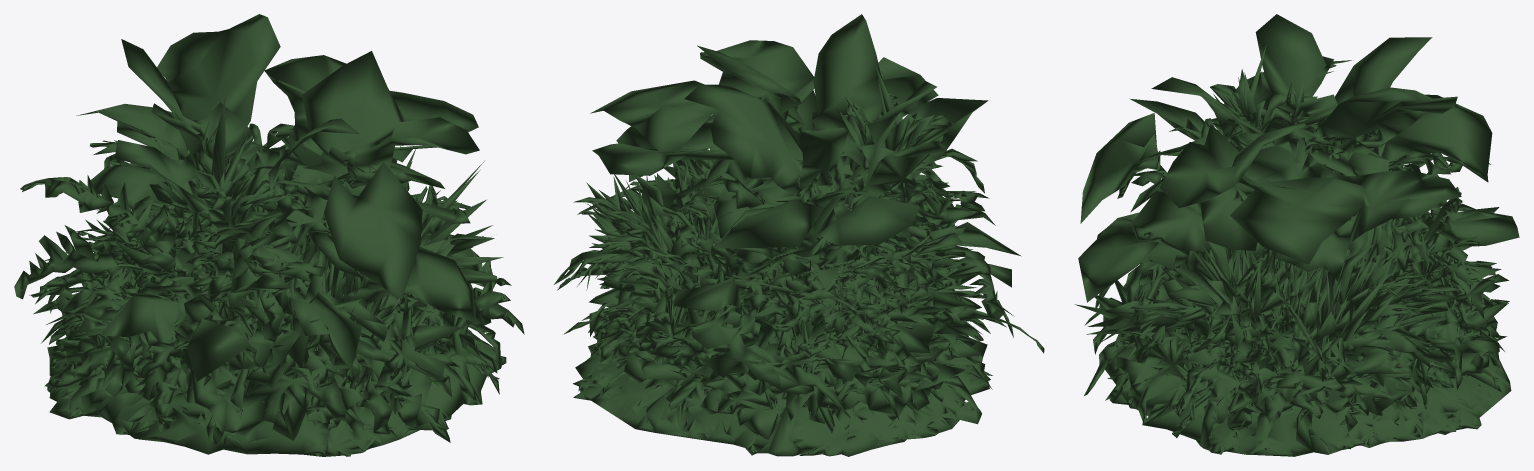
File: gen-shrub-clump-tropical-1.glb
3 views of the same model, side by side, from view 1: azimuth 30°, elevation 25°; view 2: azimuth 150°, elevation 25°; view 3: azimuth 270°, elevation 25° (orthographic). The views are drawn at different scales.
Visible parts, largest first — view 1: gen-shrub-clump-tropical-1_part1; view 2: gen-shrub-clump-tropical-1_part1; view 3: gen-shrub-clump-tropical-1_part1.
Boxes of the visible parts, bbox=[...] form: gen-shrub-clump-tropical-1_part1: bbox=[14, 14, 524, 456]; gen-shrub-clump-tropical-1_part1: bbox=[554, 14, 1044, 456]; gen-shrub-clump-tropical-1_part1: bbox=[1074, 14, 1519, 456].
Bounding box in the file's own units: 1549 × 1000 × 1366.
